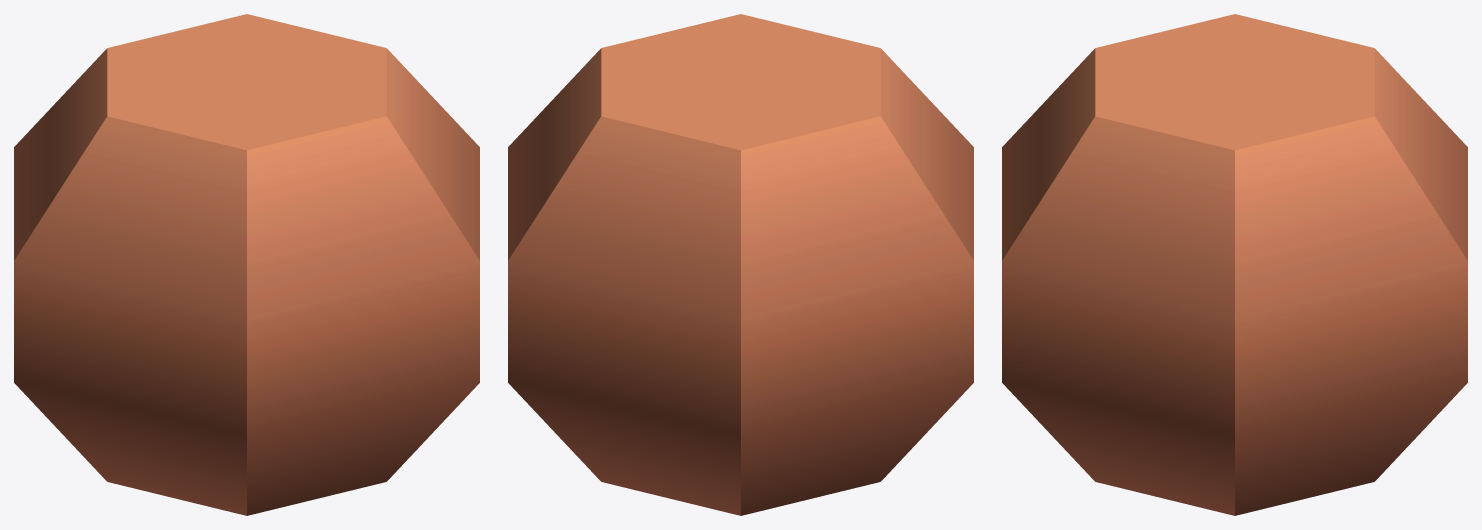
Rendered from kenney-tower-defense-weapon-ammo-boulder.glb.
The picture shows the model from 3 angles, left to right: view 1: azimuth 30°, elevation 25°; view 2: azimuth 150°, elevation 25°; view 3: azimuth 270°, elevation 25°; orthographic projection.
Parts seen in each view (by area): view 1: weapon-ammo-boulder; view 2: weapon-ammo-boulder; view 3: weapon-ammo-boulder.
Part boxes in pixels (bbox=[...]): weapon-ammo-boulder: bbox=[14, 14, 479, 515]; weapon-ammo-boulder: bbox=[508, 14, 973, 515]; weapon-ammo-boulder: bbox=[1002, 14, 1467, 515].
Size of the model in its own units: 0.32 by 0.24 by 0.2771.
Materials: 1 (1 with a texture image).
